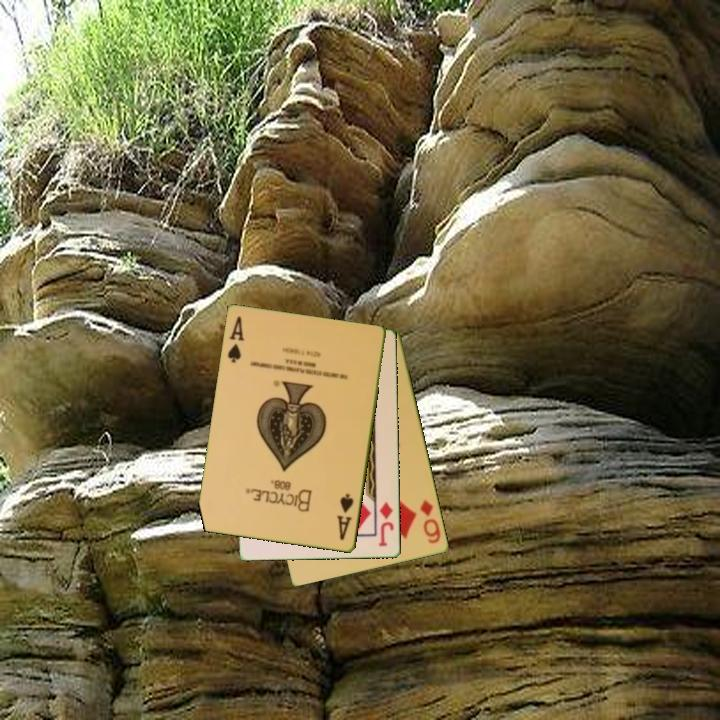6d: (417, 496, 444, 547)
As: (334, 491, 357, 544), (224, 313, 247, 366)
Jd: (376, 498, 397, 549)
